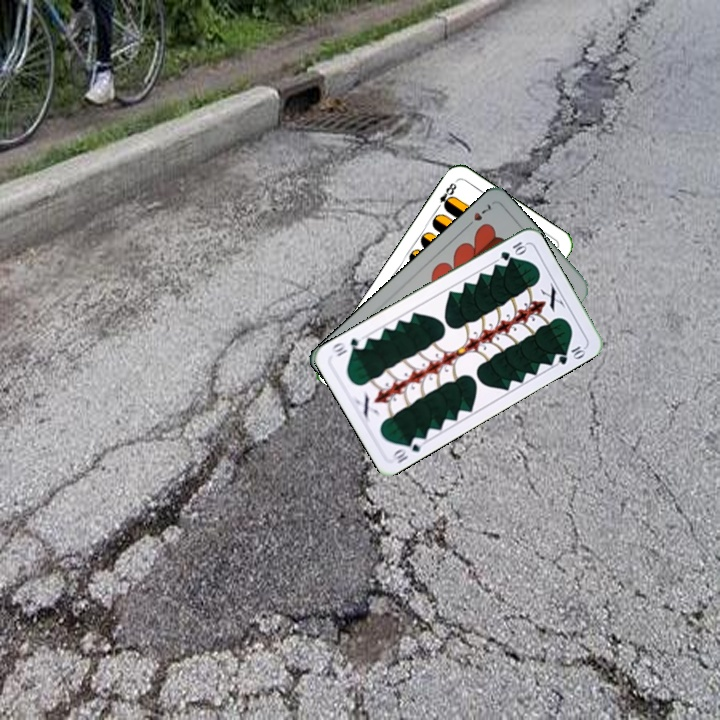E8: (432, 179, 459, 213)
G10: (388, 433, 427, 466), (496, 237, 529, 263)
H7: (461, 200, 494, 231)
